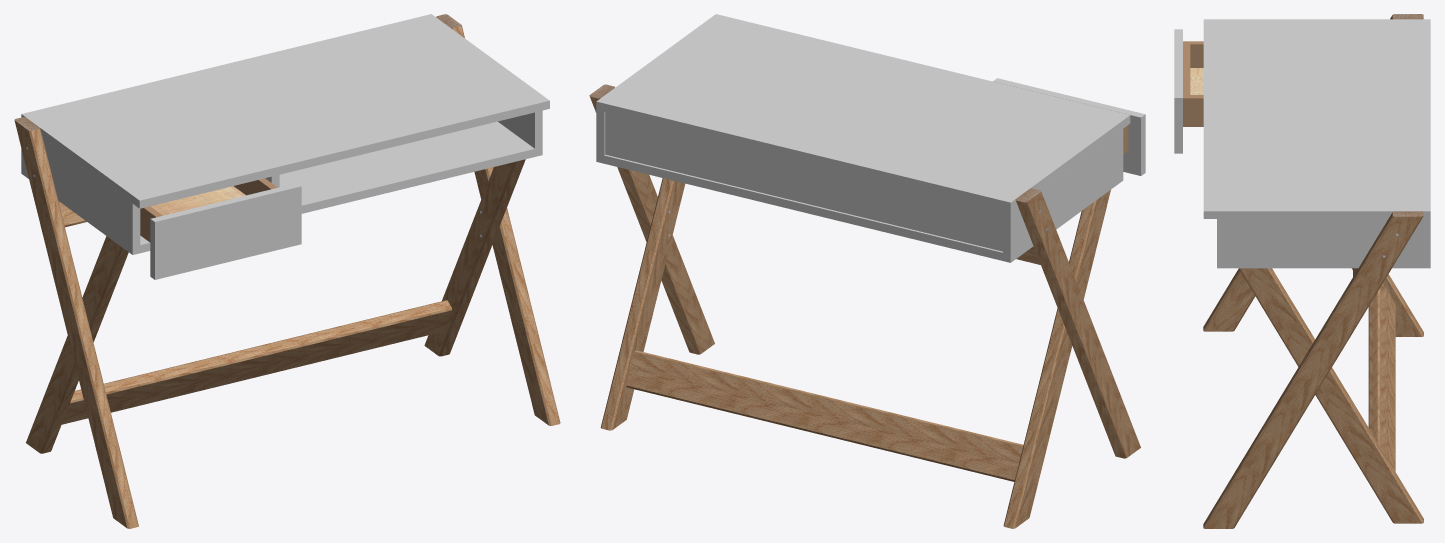
The model's file is table.glb.
The picture shows the model from 3 angles, left to right: view 1: azimuth 30°, elevation 25°; view 2: azimuth 150°, elevation 25°; view 3: azimuth 270°, elevation 25°; orthographic projection. The views are drawn at different scales.
Size of the model in its own units: 1.32 by 0.9488 by 0.705.
Materials: 7 (5 with a texture image).
